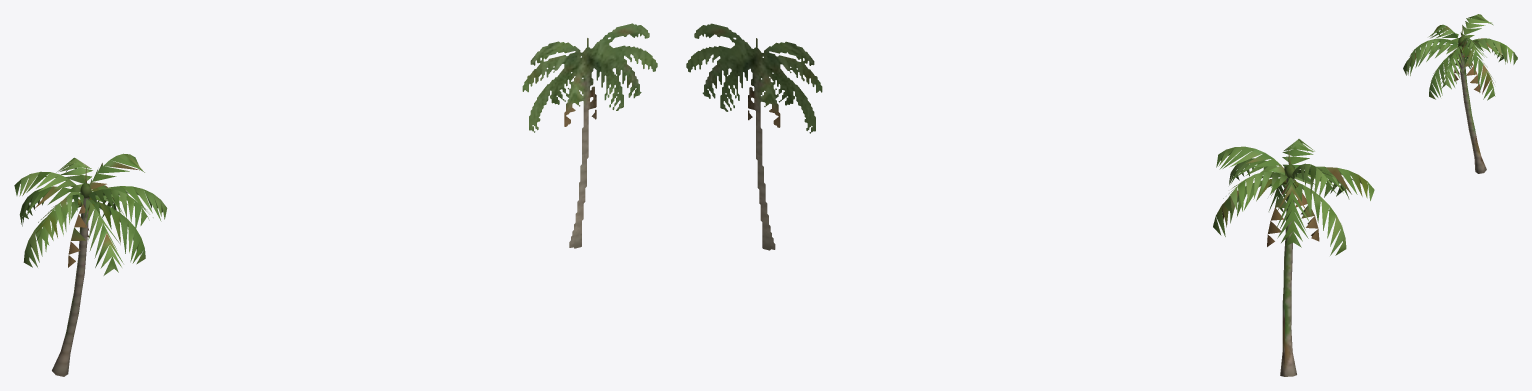
Rendered from tree_coconut.glb.
3 views of the same model, side by side, from view 1: azimuth 30°, elevation 25°; view 2: azimuth 150°, elevation 25°; view 3: azimuth 270°, elevation 25° (orthographic). The views are drawn at different scales.
Parts seen in each view (by area): view 1: tree_coconut_LOD0, tree_coconut_IMPOSTOR; view 2: tree_coconut_LOD0, tree_coconut_IMPOSTOR; view 3: tree_coconut_LOD0.
Boxes of the visible parts, x1=… form: tree_coconut_LOD0: x1=14, y1=153, x2=167, y2=376; tree_coconut_IMPOSTOR: x1=522, y1=23, x2=657, y2=248; tree_coconut_LOD0: x1=1213, y1=139, x2=1374, y2=376; tree_coconut_IMPOSTOR: x1=686, y1=23, x2=822, y2=250; tree_coconut_LOD0: x1=1403, y1=14, x2=1517, y2=173.
Size of what is drawn, in the model's own units: 147 by 46.39 by 32.06.
Materials: 2 (2 with a texture image).
